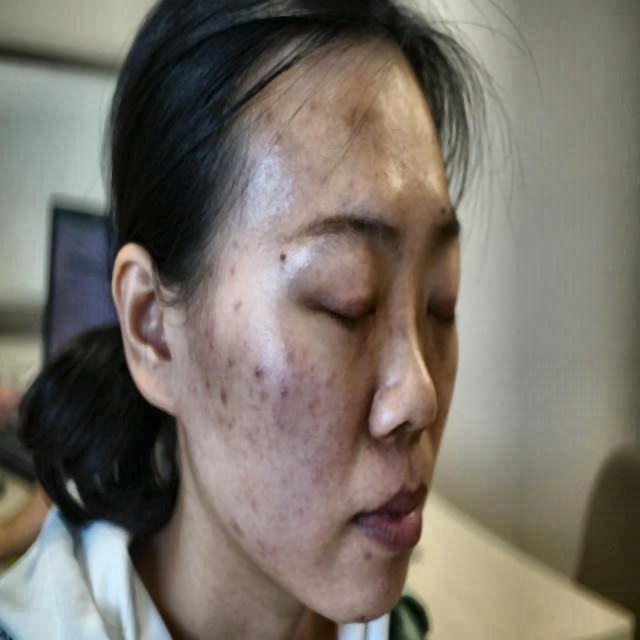pustule: (230, 291, 247, 325), (281, 343, 301, 371), (304, 389, 321, 418), (220, 382, 232, 420), (226, 346, 240, 376), (276, 379, 290, 408), (251, 355, 265, 382)
